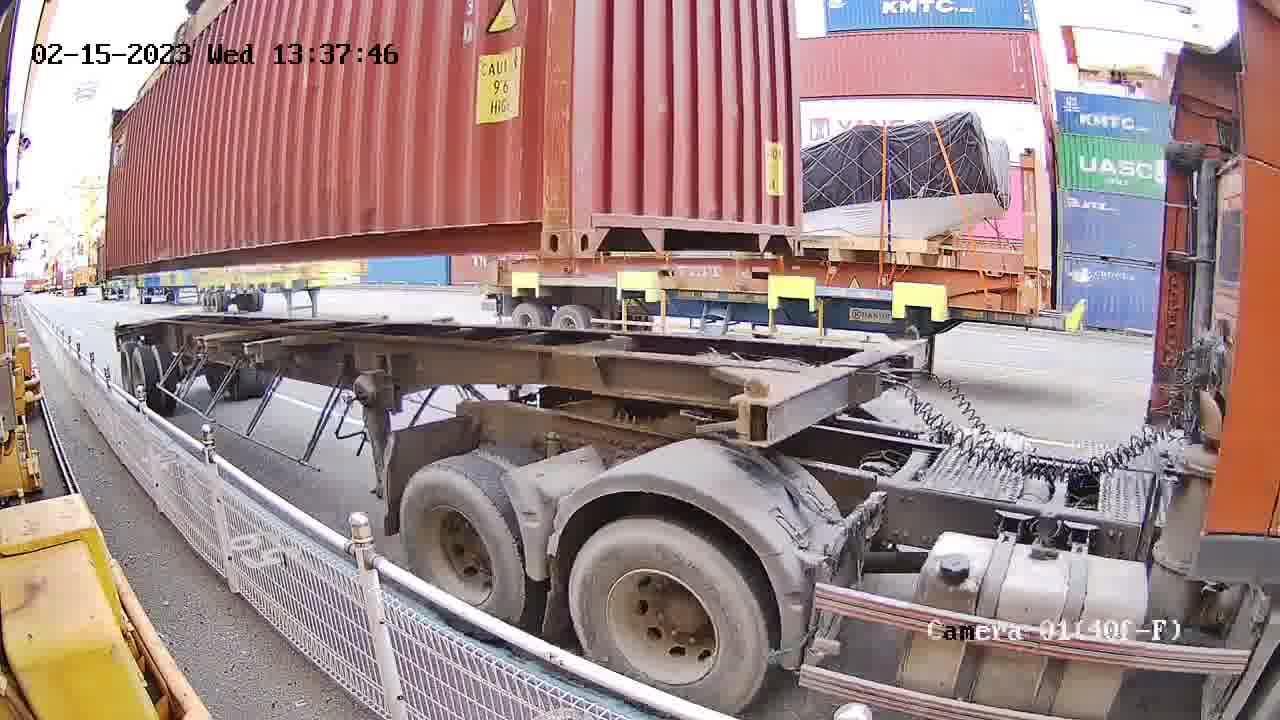Chassis: (774, 339, 931, 442)
Cone: (734, 374, 775, 443), (892, 324, 927, 345)
Hole_L: (572, 179, 632, 254)
Hole_R: (498, 178, 574, 255), (761, 188, 803, 255)
Tire: (571, 519, 766, 714), (397, 464, 522, 623)
